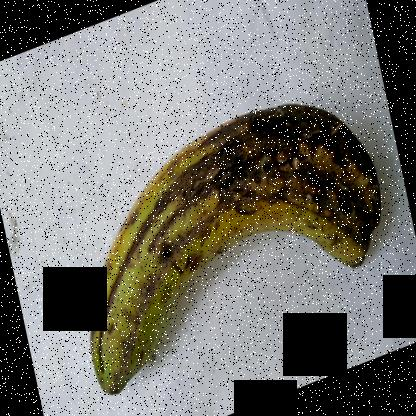rotten: (74, 90, 396, 395)
